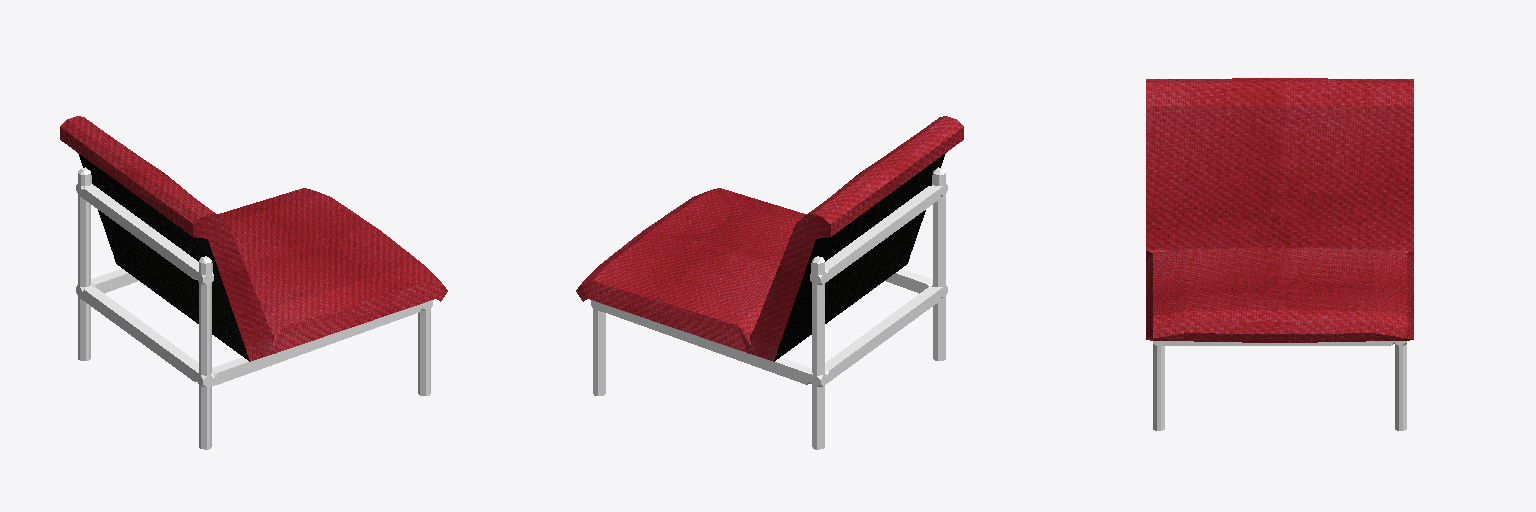
3 views of the same model, side by side, from view 1: azimuth 30°, elevation 25°; view 2: azimuth 150°, elevation 25°; view 3: azimuth 270°, elevation 25° (orthographic).
Parts seen in each view (by area): view 1: chair_2; view 2: chair_2; view 3: chair_2.
Part boxes in pixels (left/top/right/bottom): chair_2: left=60, top=116, right=447, bottom=449; chair_2: left=576, top=116, right=963, bottom=449; chair_2: left=1146, top=78, right=1413, bottom=430.
Bounding box in the file's own units: 6.34 × 5.56 × 5.62.
2 materials, 1 textured.